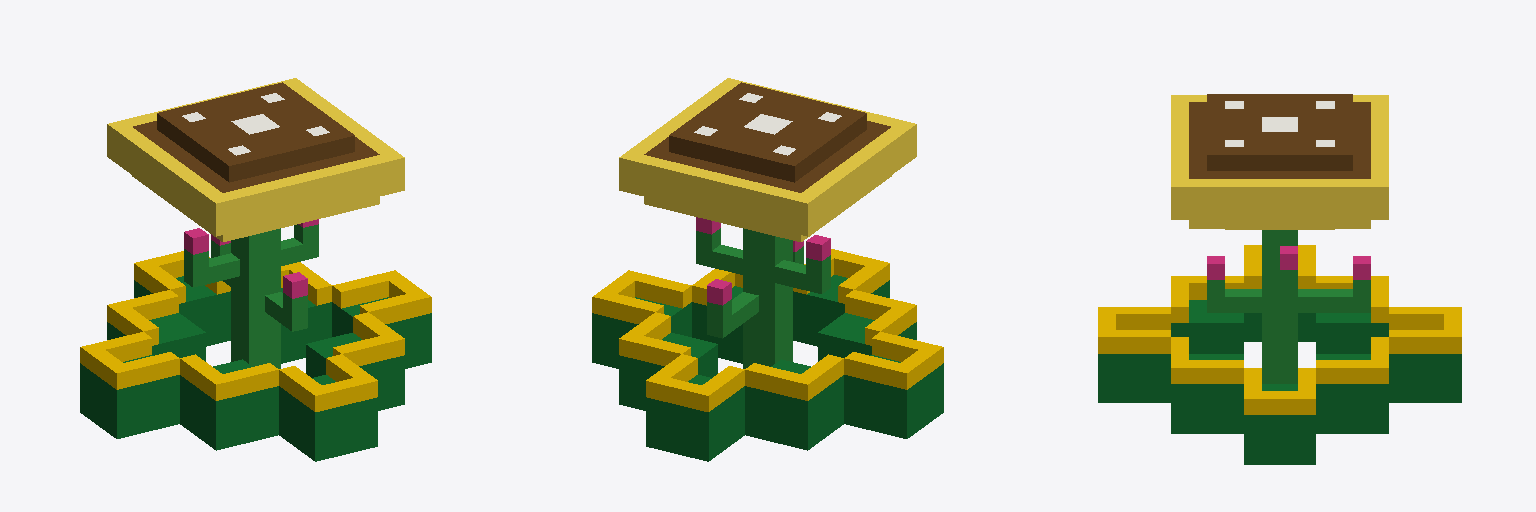
3 views of the same model, side by side, from view 1: azimuth 30°, elevation 25°; view 2: azimuth 150°, elevation 25°; view 3: azimuth 270°, elevation 25° (orthographic).
Visible parts, largest first — view 1: Element #19, Element #10, Element #21, Element #37, Element #46, Element #27, Element #18, Element #1, Element #5, Element #23, Element #39, Element #15 (+26 smaller); view 2: Element #19, Element #17, Element #39, Element #23, Element #47, Element #18, Element #28, Element #11, Element #15, Element #7, Element #22, Element #2 (+28 smaller); view 3: Element #19, Element #11, Element #10, Element #7, Element #23, Element #6, Element #2, Element #27, Element #17, Element #22, Element #39, Element #38 (+22 smaller).
Part boxes in pixels (x1,y1,x2,y2): Element #19: (157, 82, 354, 182); Element #10: (198, 144, 404, 236); Element #21: (306, 374, 377, 461); Element #37: (207, 363, 278, 450); Element #46: (108, 352, 179, 438); Element #27: (240, 228, 280, 368); Element #18: (125, 130, 228, 206); Element #1: (360, 290, 431, 368); Element #5: (333, 332, 404, 410); Element #23: (134, 276, 230, 346); Element #39: (107, 313, 205, 361); Element #15: (184, 238, 318, 287); Element #19: (669, 82, 866, 182); Element #17: (651, 152, 825, 236); Element #39: (745, 359, 843, 450); Element #23: (646, 375, 744, 461); Element #47: (844, 355, 933, 438); Element #18: (795, 130, 898, 206); Element #28: (743, 275, 783, 368); Element #11: (619, 91, 723, 197); Element #15: (696, 245, 830, 293); Element #7: (619, 333, 717, 410); Element #22: (793, 275, 880, 346); Element #2: (592, 297, 682, 368); Element #19: (1207, 94, 1352, 170); Element #11: (1207, 171, 1388, 219); Element #10: (1171, 95, 1206, 219); Element #7: (1316, 354, 1388, 433); Element #23: (1389, 354, 1461, 402); Element #6: (1189, 354, 1243, 433); Element #2: (1262, 384, 1315, 464); Element #27: (1262, 230, 1279, 383); Element #17: (1353, 95, 1388, 170); Element #22: (1116, 354, 1170, 402); Element #39: (1316, 313, 1388, 353); Element #38: (1189, 300, 1243, 353).
Bounding box in the file's own units: 3.2 × 2.56 × 3.2.
1 materials, 1 textured.